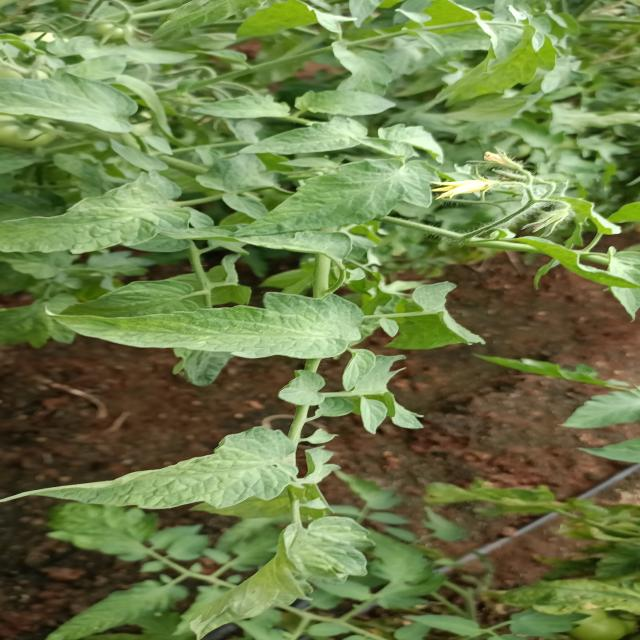Healthy Leaf: (29, 283, 370, 368), (0, 425, 306, 512), (224, 156, 439, 254)
